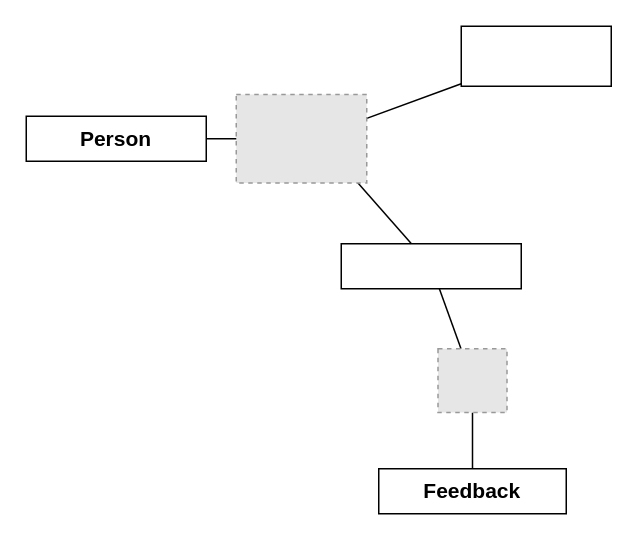
This 638x540 diagram has some shape labels left out. Grey dashed boxes stand in for pictures. Here are the shapes that lost their labels. From the top down, the box of each, then its label:
(460, 25, 611, 86): Property Buyer
(340, 242, 521, 289): Property Seller
